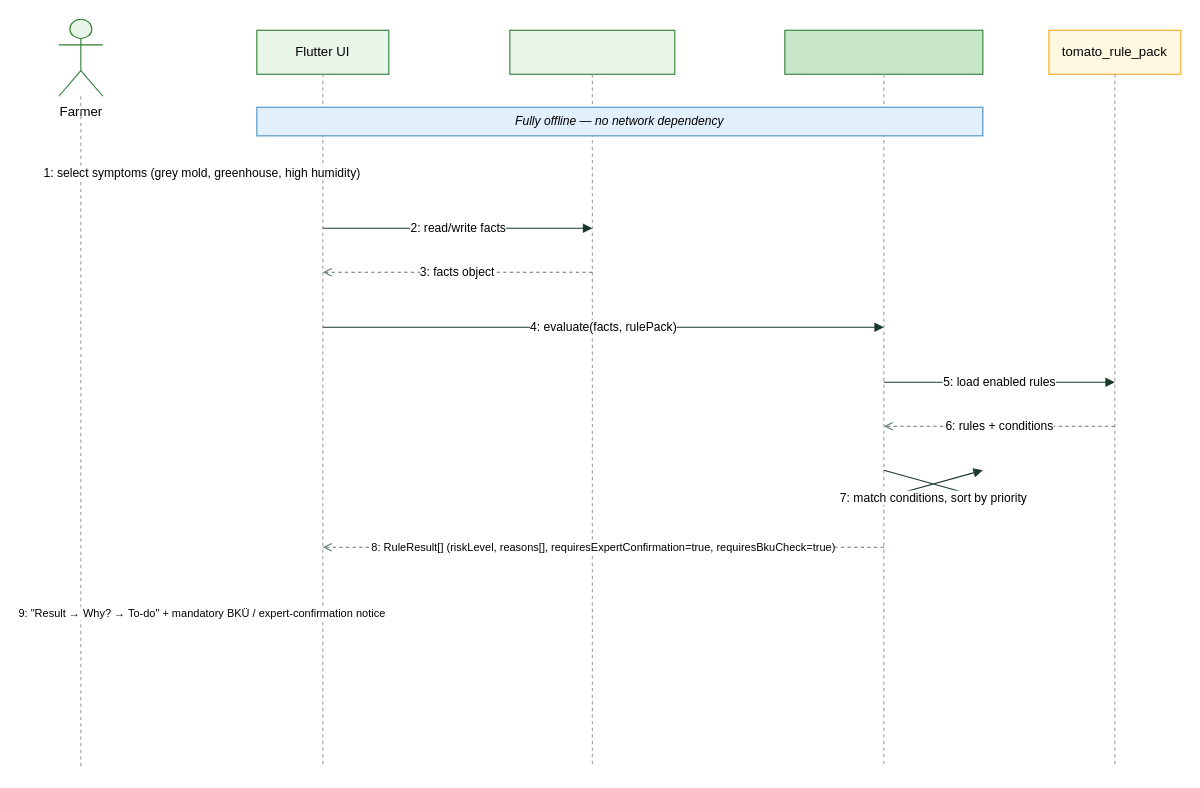
The diagram is 1200 pixels wide and 788 high, and some of its shapes have lost their labels. The shapes that lost their labels are listed below. From the top down, each one's centre as x and y in pixels, then its label:
point 592,51: Drift / SQLite (local)
point 883,51: OfflineRuleEngine (Dart)
